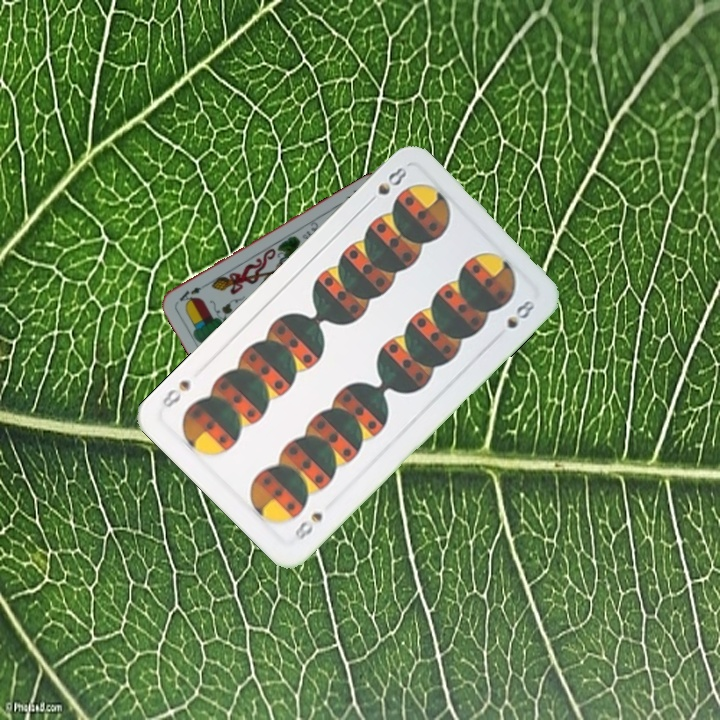S8: (362, 163, 410, 209), (291, 508, 326, 544)
